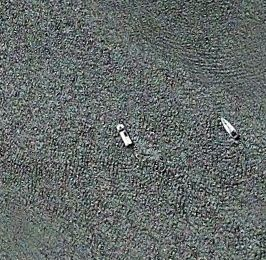boat: (116, 122, 135, 149), (219, 116, 239, 140)
